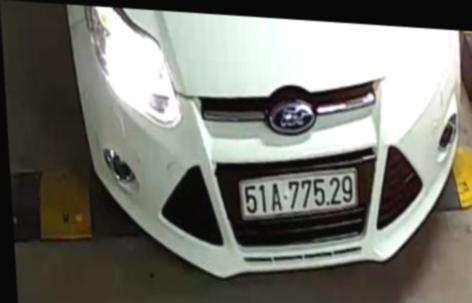License_Plate: (231, 160, 362, 228)
